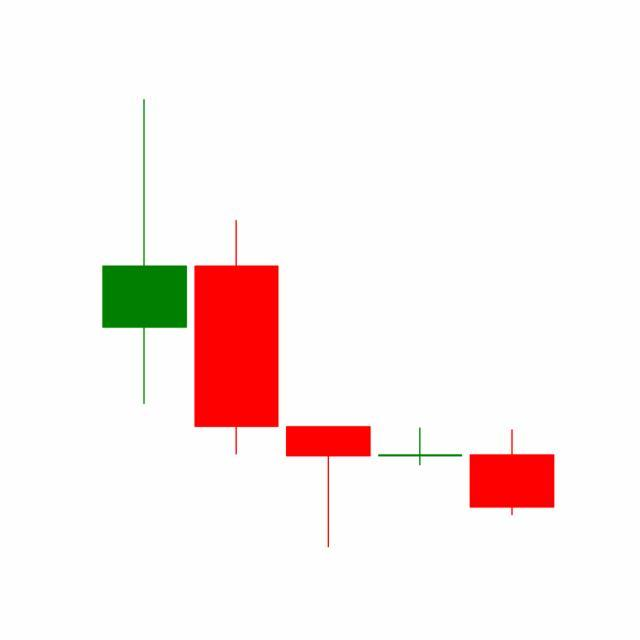Spinning Top: (374, 428, 468, 467)
